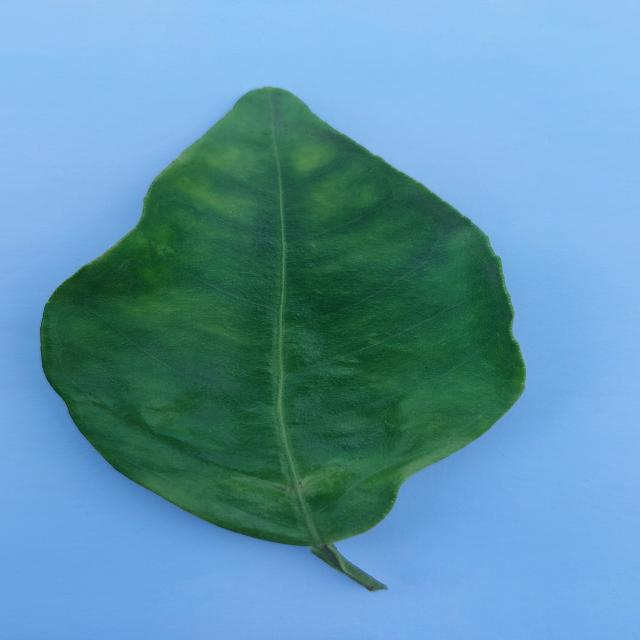greening: (42, 88, 524, 590)
